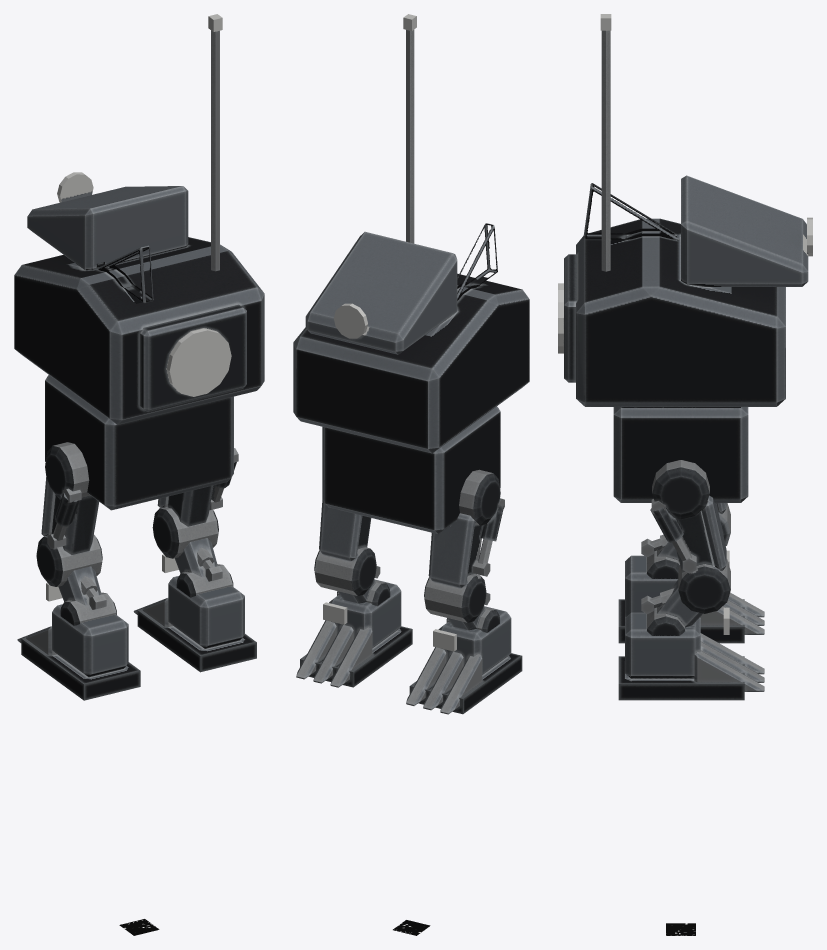
The model's file is chs_snitch.fbx.
3 renders of one model, left to right at view 1: azimuth 30°, elevation 25°; view 2: azimuth 150°, elevation 25°; view 3: azimuth 270°, elevation 25°, orthographic. The views are drawn at different scales.
Visible parts, largest first — view 1: torso_bar, base_bar, footL_bar, footR_bar, thighL_bar, thighR_bar, torso_glow_power_bar, shinR_bar, shinL_bar, torso_glow_head_bar; view 2: torso_bar, base_bar, thighL_bar, footL_bar, footR_bar, thighR_bar, torso_glow_head_bar, shinR_bar, shinL_bar; view 3: torso_bar, base_bar, footR_bar, thighR_bar, footL_bar, shinR_bar, shinL_bar.
Boxes of the visible parts, <box> form: torso_bar: <box>14,30,264,424</box>; base_bar: <box>45,375,233,510</box>; footL_bar: <box>17,604,140,700</box>; footR_bar: <box>133,576,256,672</box>; thighL_bar: <box>36,442,102,586</box>; thighR_bar: <box>152,448,238,558</box>; torso_glow_power_bar: <box>166,328,231,396</box>; shinR_bar: <box>175,538,233,597</box>; shinL_bar: <box>58,566,116,625</box>; torso_glow_head_bar: <box>57,172,93,202</box>; torso_bar: <box>293,30,529,453</box>; base_bar: <box>322,406,500,533</box>; thighL_bar: <box>424,469,504,622</box>; footL_bar: <box>406,606,522,714</box>; footR_bar: <box>296,579,412,687</box>; thighR_bar: <box>314,500,376,595</box>; torso_glow_head_bar: <box>333,303,367,338</box>; shinR_bar: <box>337,566,390,606</box>; shinL_bar: <box>446,593,499,632</box>; torso_bar: <box>564,30,808,406</box>; base_bar: <box>613,407,748,502</box>; footR_bar: <box>618,612,764,700</box>; thighR_bar: <box>650,460,730,613</box>; footL_bar: <box>618,555,764,643</box>; shinR_bar: <box>641,579,702,635</box>; shinL_bar: <box>641,534,679,578</box>.
Bounding box in the file's own units: 134 × 686 × 170.
Materials: 2 (2 with a texture image).
